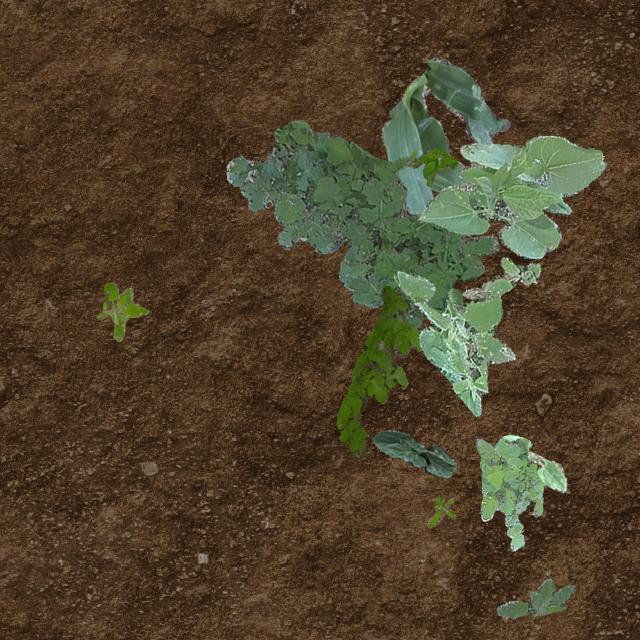crop: (416, 134, 604, 258), (380, 56, 510, 215), (372, 429, 456, 476), (498, 434, 566, 492)
weed: (225, 119, 498, 332), (392, 270, 514, 416), (336, 284, 420, 456), (474, 438, 542, 550), (462, 256, 540, 300), (496, 578, 576, 618), (96, 282, 148, 341), (408, 148, 457, 185), (426, 494, 454, 526)
